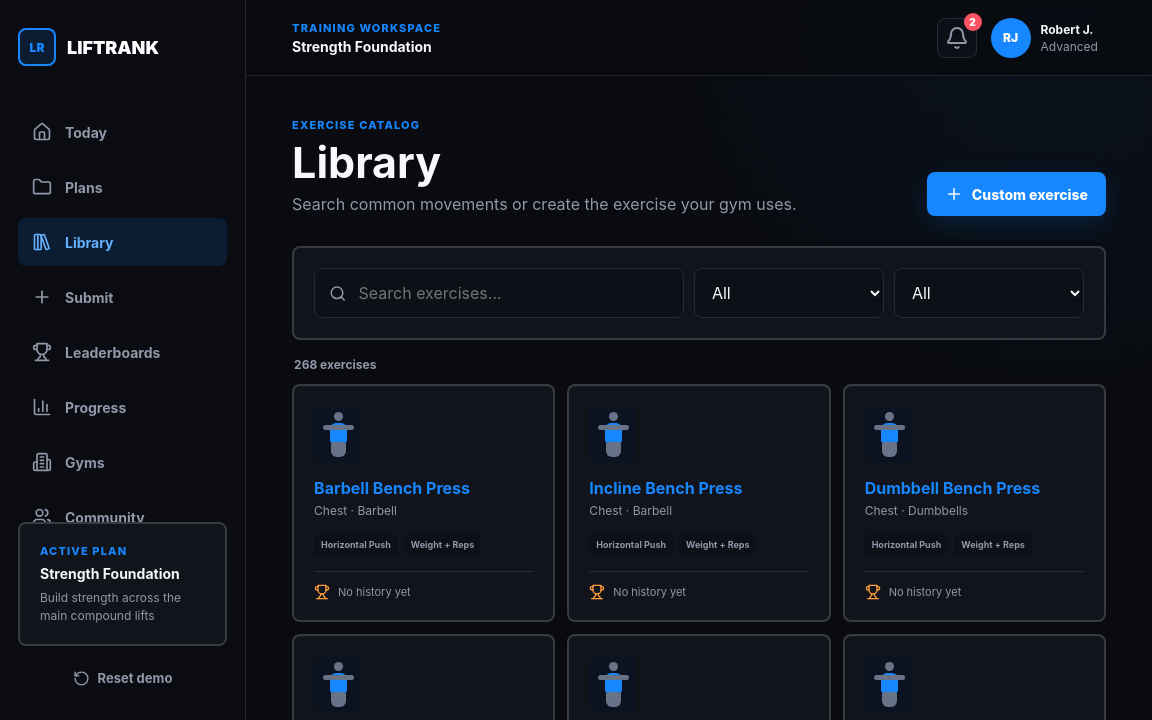
Test: LiftRank tracker UI › creates a custom exercise separately from workout programming
Click the button "Custom exercise" at (1016, 194), box [927, 172, 1106, 216]
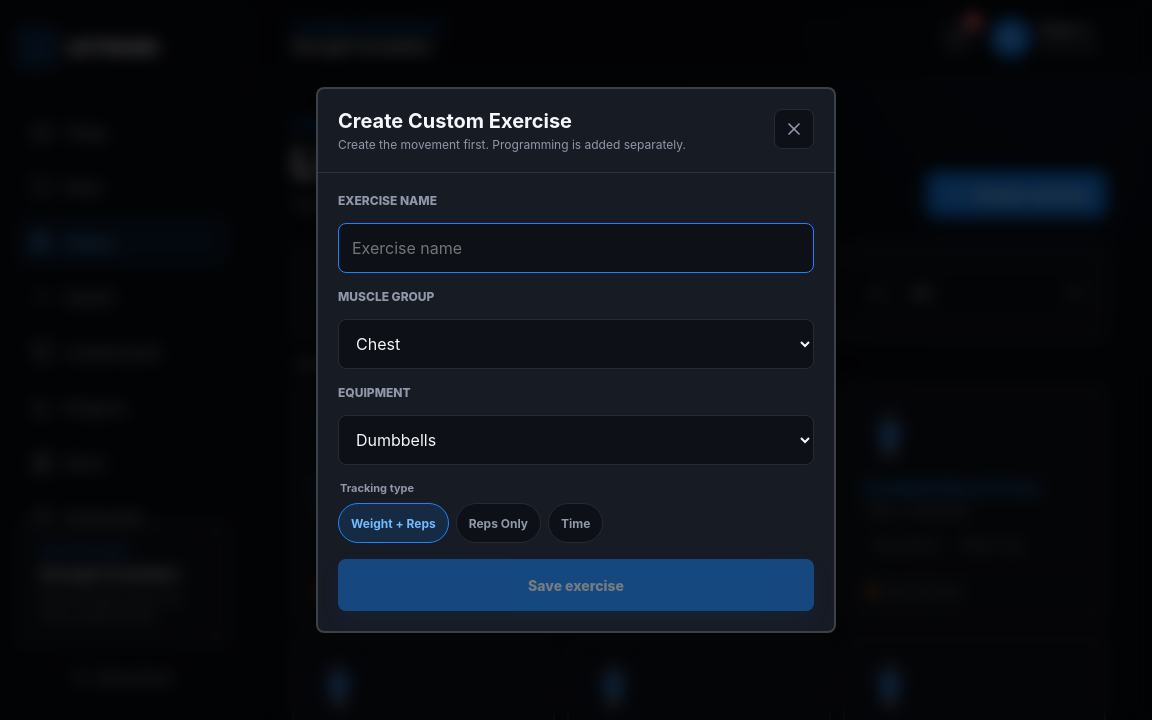
Type "Belt Squat" into the field with placeholder "Exercise name" at (576, 248), box [338, 223, 814, 273]
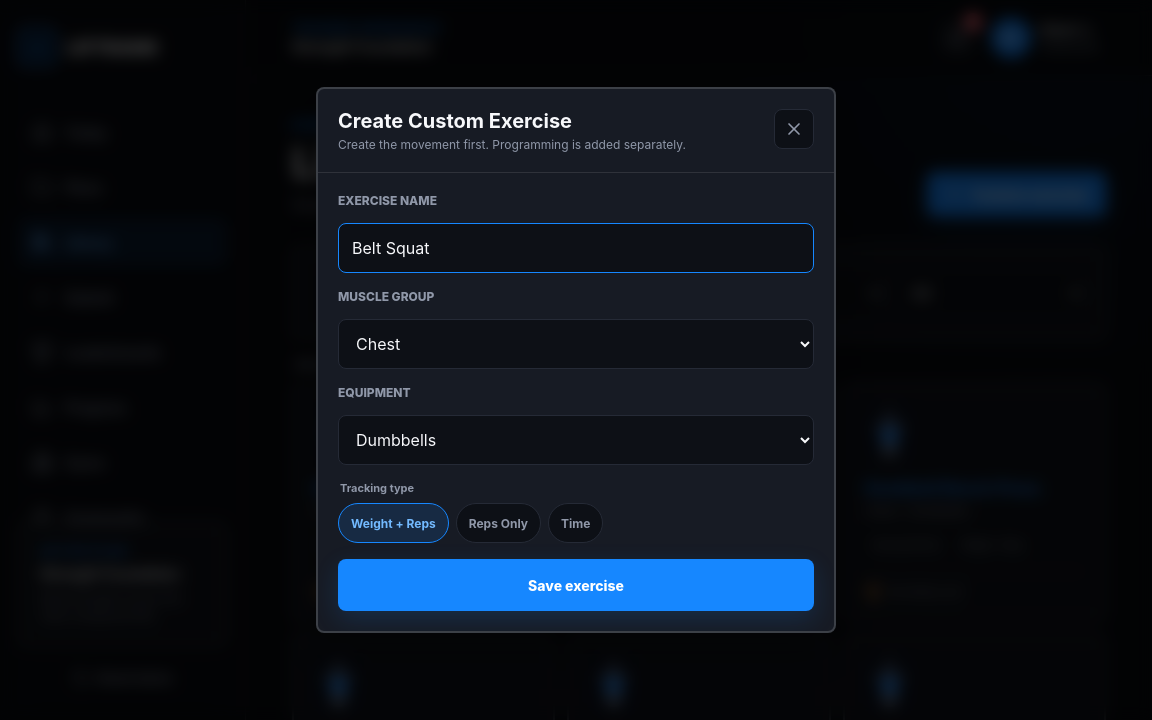
Select "Machine" in the dropdown labelled "Equipment" at (576, 440), box [338, 415, 814, 465]
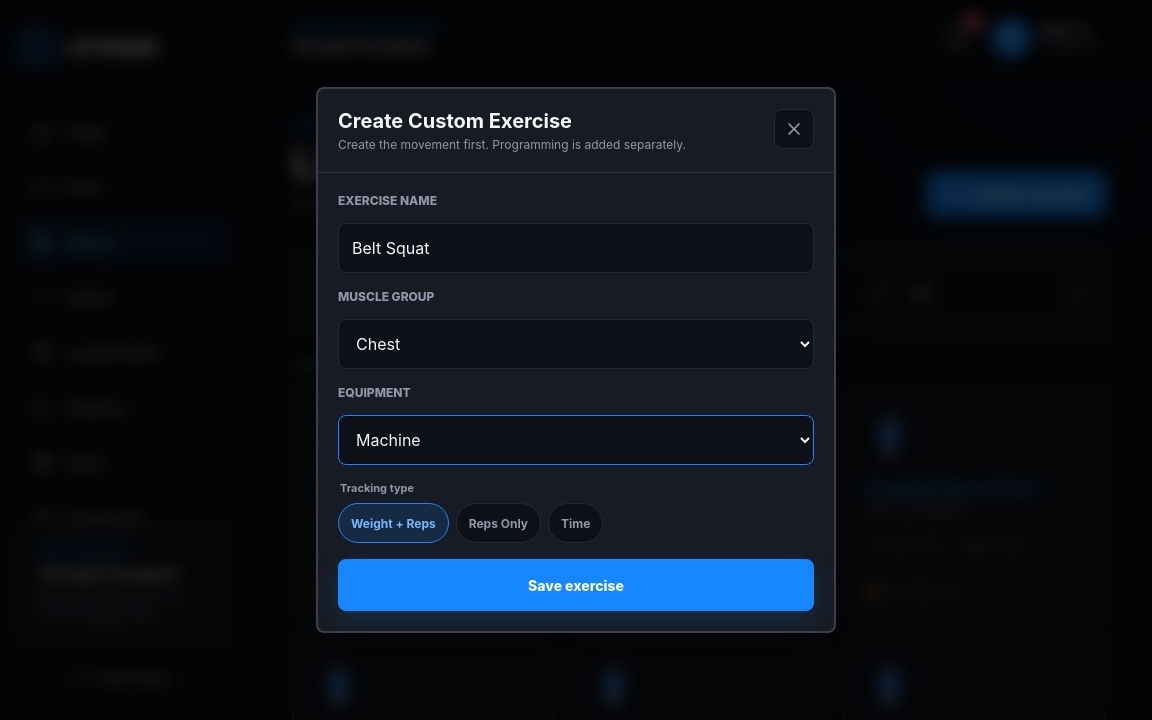
Click the button "Save exercise" at (576, 585), box [338, 559, 814, 611]
(page scrolled)
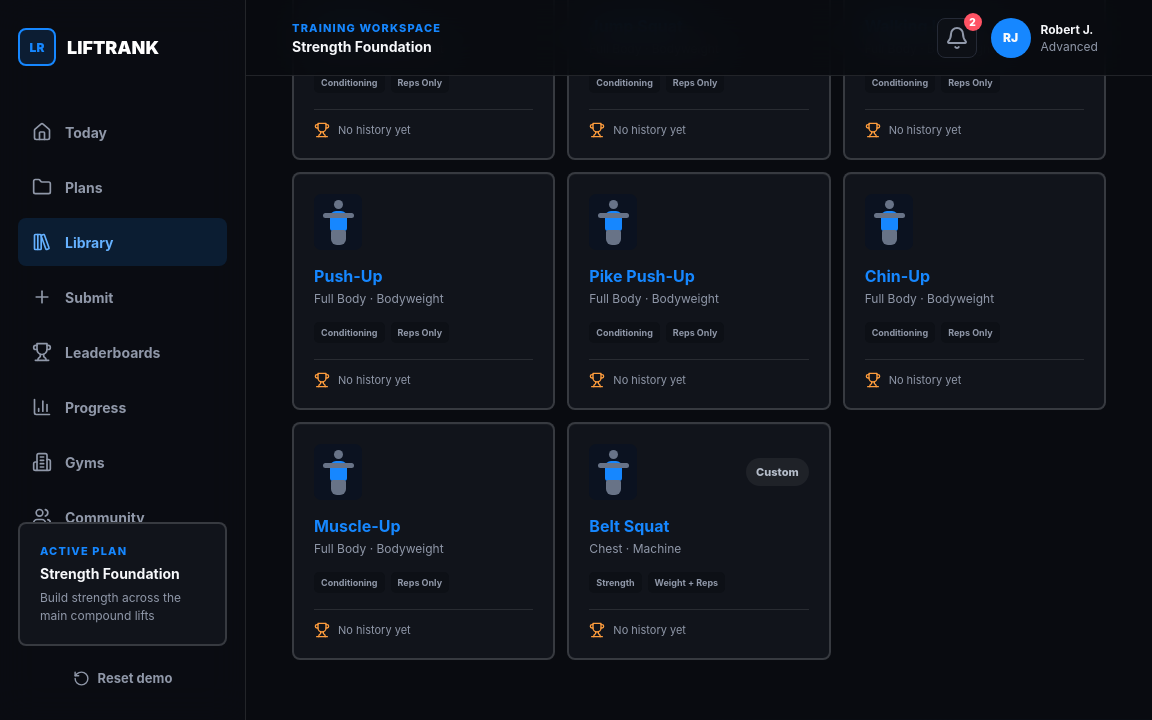
Expected: the text "Custom" is shown, [746, 458, 809, 486]
Expected: the link "Belt Squat" is shown, [589, 516, 669, 536]
